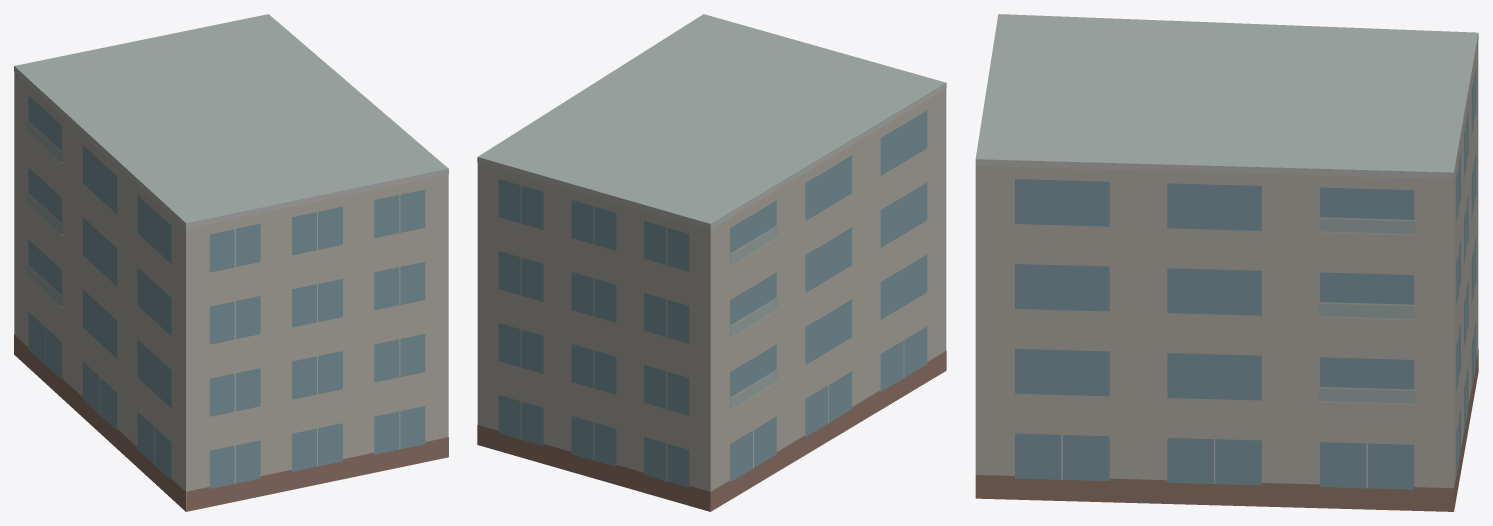
The model's file is survey-upis-32499924.glb.
The picture shows the model from 3 angles, left to right: view 1: azimuth 30°, elevation 25°; view 2: azimuth 150°, elevation 25°; view 3: azimuth 270°, elevation 25°; orthographic projection. The views are drawn at different scales.
Visible parts, largest first — view 1: survey-upis-32499924.tmp; view 2: survey-upis-32499924.tmp; view 3: survey-upis-32499924.tmp.
Boxes of the visible parts, box(x1,y1,x2,y2) form: survey-upis-32499924.tmp: box(14, 14, 448, 511); survey-upis-32499924.tmp: box(477, 14, 946, 511); survey-upis-32499924.tmp: box(975, 14, 1478, 511).
Bounding box in the file's own units: 12.53 × 12.5 × 16.8.
